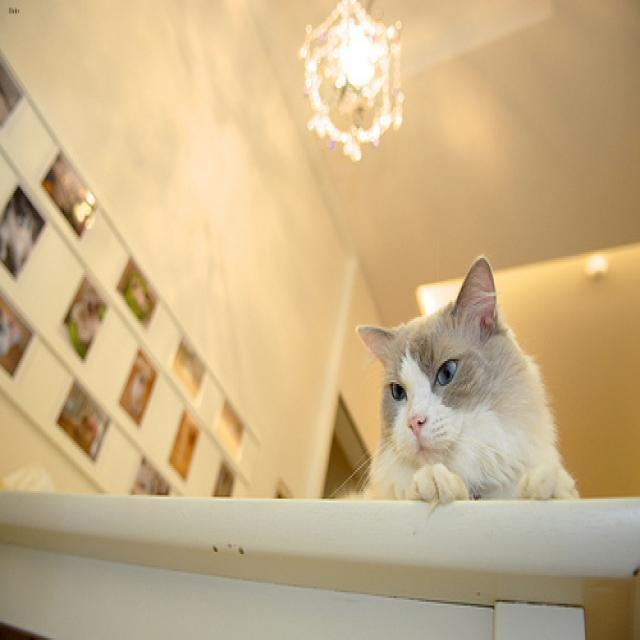Ragdoll: (353, 256, 537, 476)
